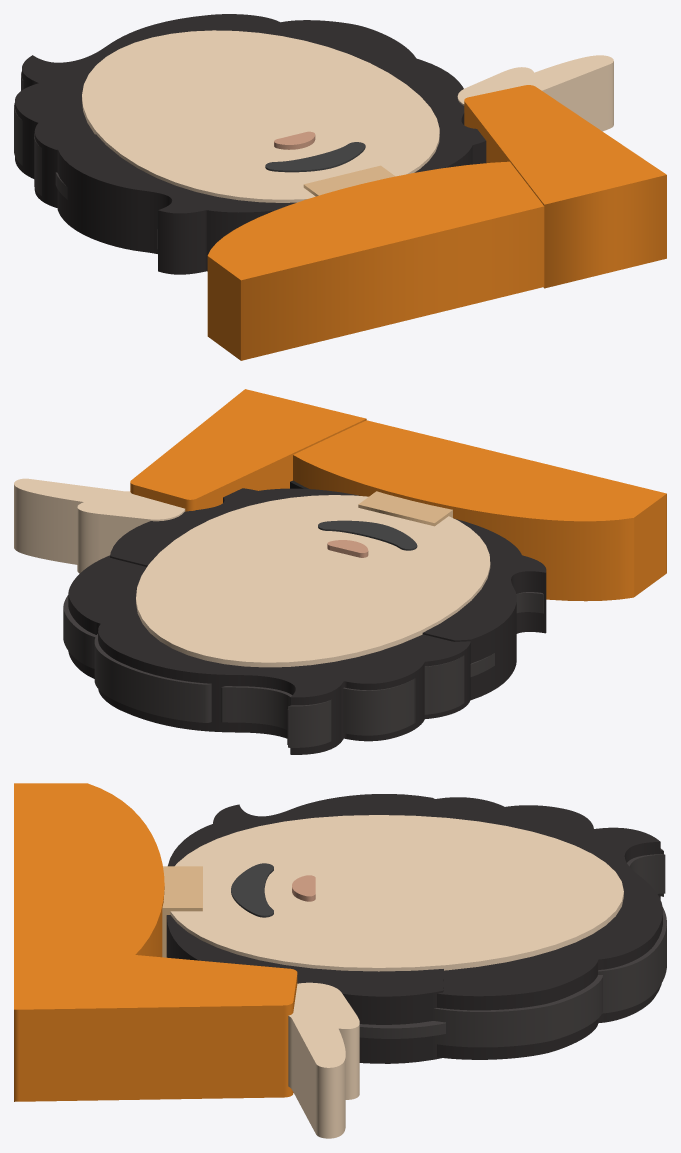
The model's file is emoji_u1f481_1f3fb.glb.
3 views of the same model, one above another, from view 1: azimuth 30°, elevation 25°; view 2: azimuth 150°, elevation 25°; view 3: azimuth 270°, elevation 25° (orthographic). The views are drawn at different scales.
Visible parts, largest first — view 1: emoji_u1f481_1f3fb; view 2: emoji_u1f481_1f3fb; view 3: emoji_u1f481_1f3fb.
Part boxes in pixels (x1=…): emoji_u1f481_1f3fb: x1=14, y1=14, x2=666, y2=360; emoji_u1f481_1f3fb: x1=14, y1=389, x2=666, y2=754; emoji_u1f481_1f3fb: x1=14, y1=783, x2=666, y2=1138.
Bounding box in the file's own units: 0.0334 × 0.0052 × 0.0334.
